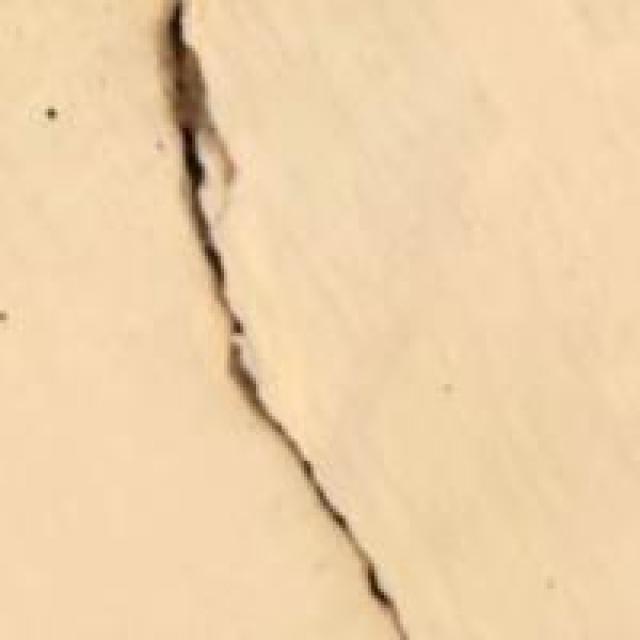Crack: (121, 0, 422, 637)
